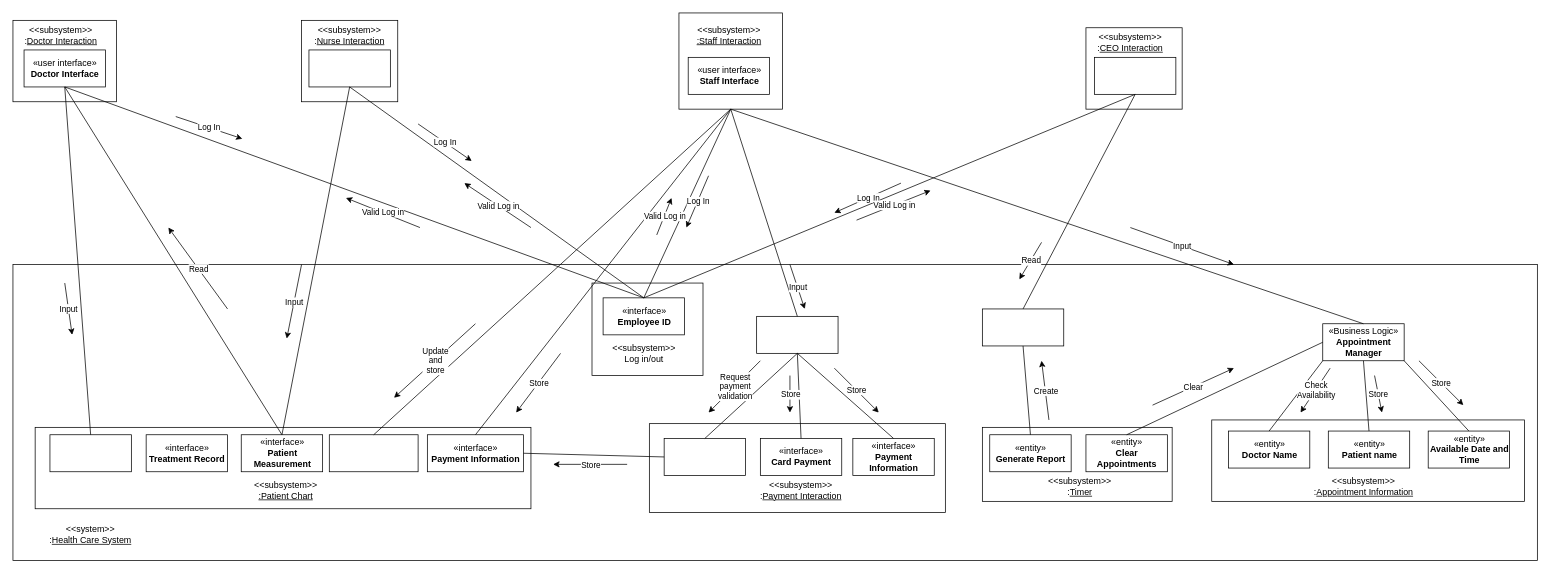
The diagram is 1550 pixels wide and 574 high, and some of its shapes have lost their labels. The shapes that lost their labels are listed below. From the top down, each one's box as (x1, y1, x2, y2) in pixels, then its label:
(308, 49, 390, 87): «user interface» Nurse Interface
(1094, 57, 1176, 94): «user interface» CEO Interface
(756, 316, 838, 353): «Business Logic» Payment Manager
(982, 308, 1064, 346): «entity» View Report
(49, 434, 131, 472): «interface» Patient Treatment
(329, 434, 418, 472): «interface» Patient Information
(663, 438, 746, 475): «interface» Bank Interface
